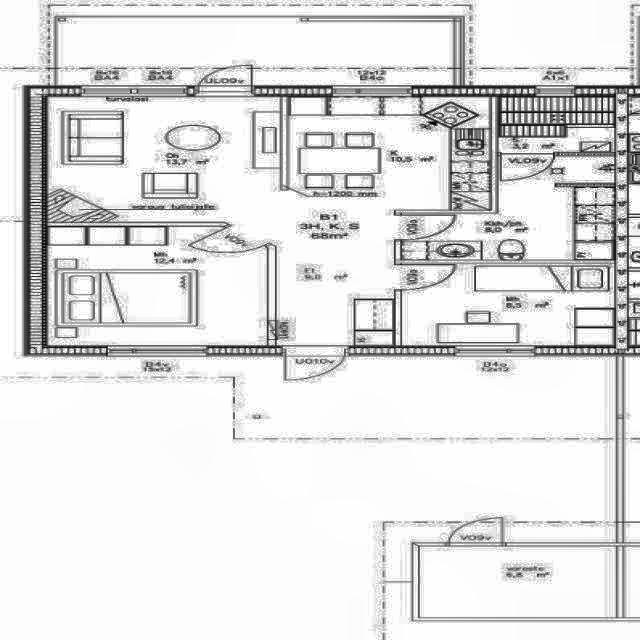room: (48, 226, 267, 345), (402, 154, 615, 260), (402, 263, 614, 346), (498, 96, 616, 153)
